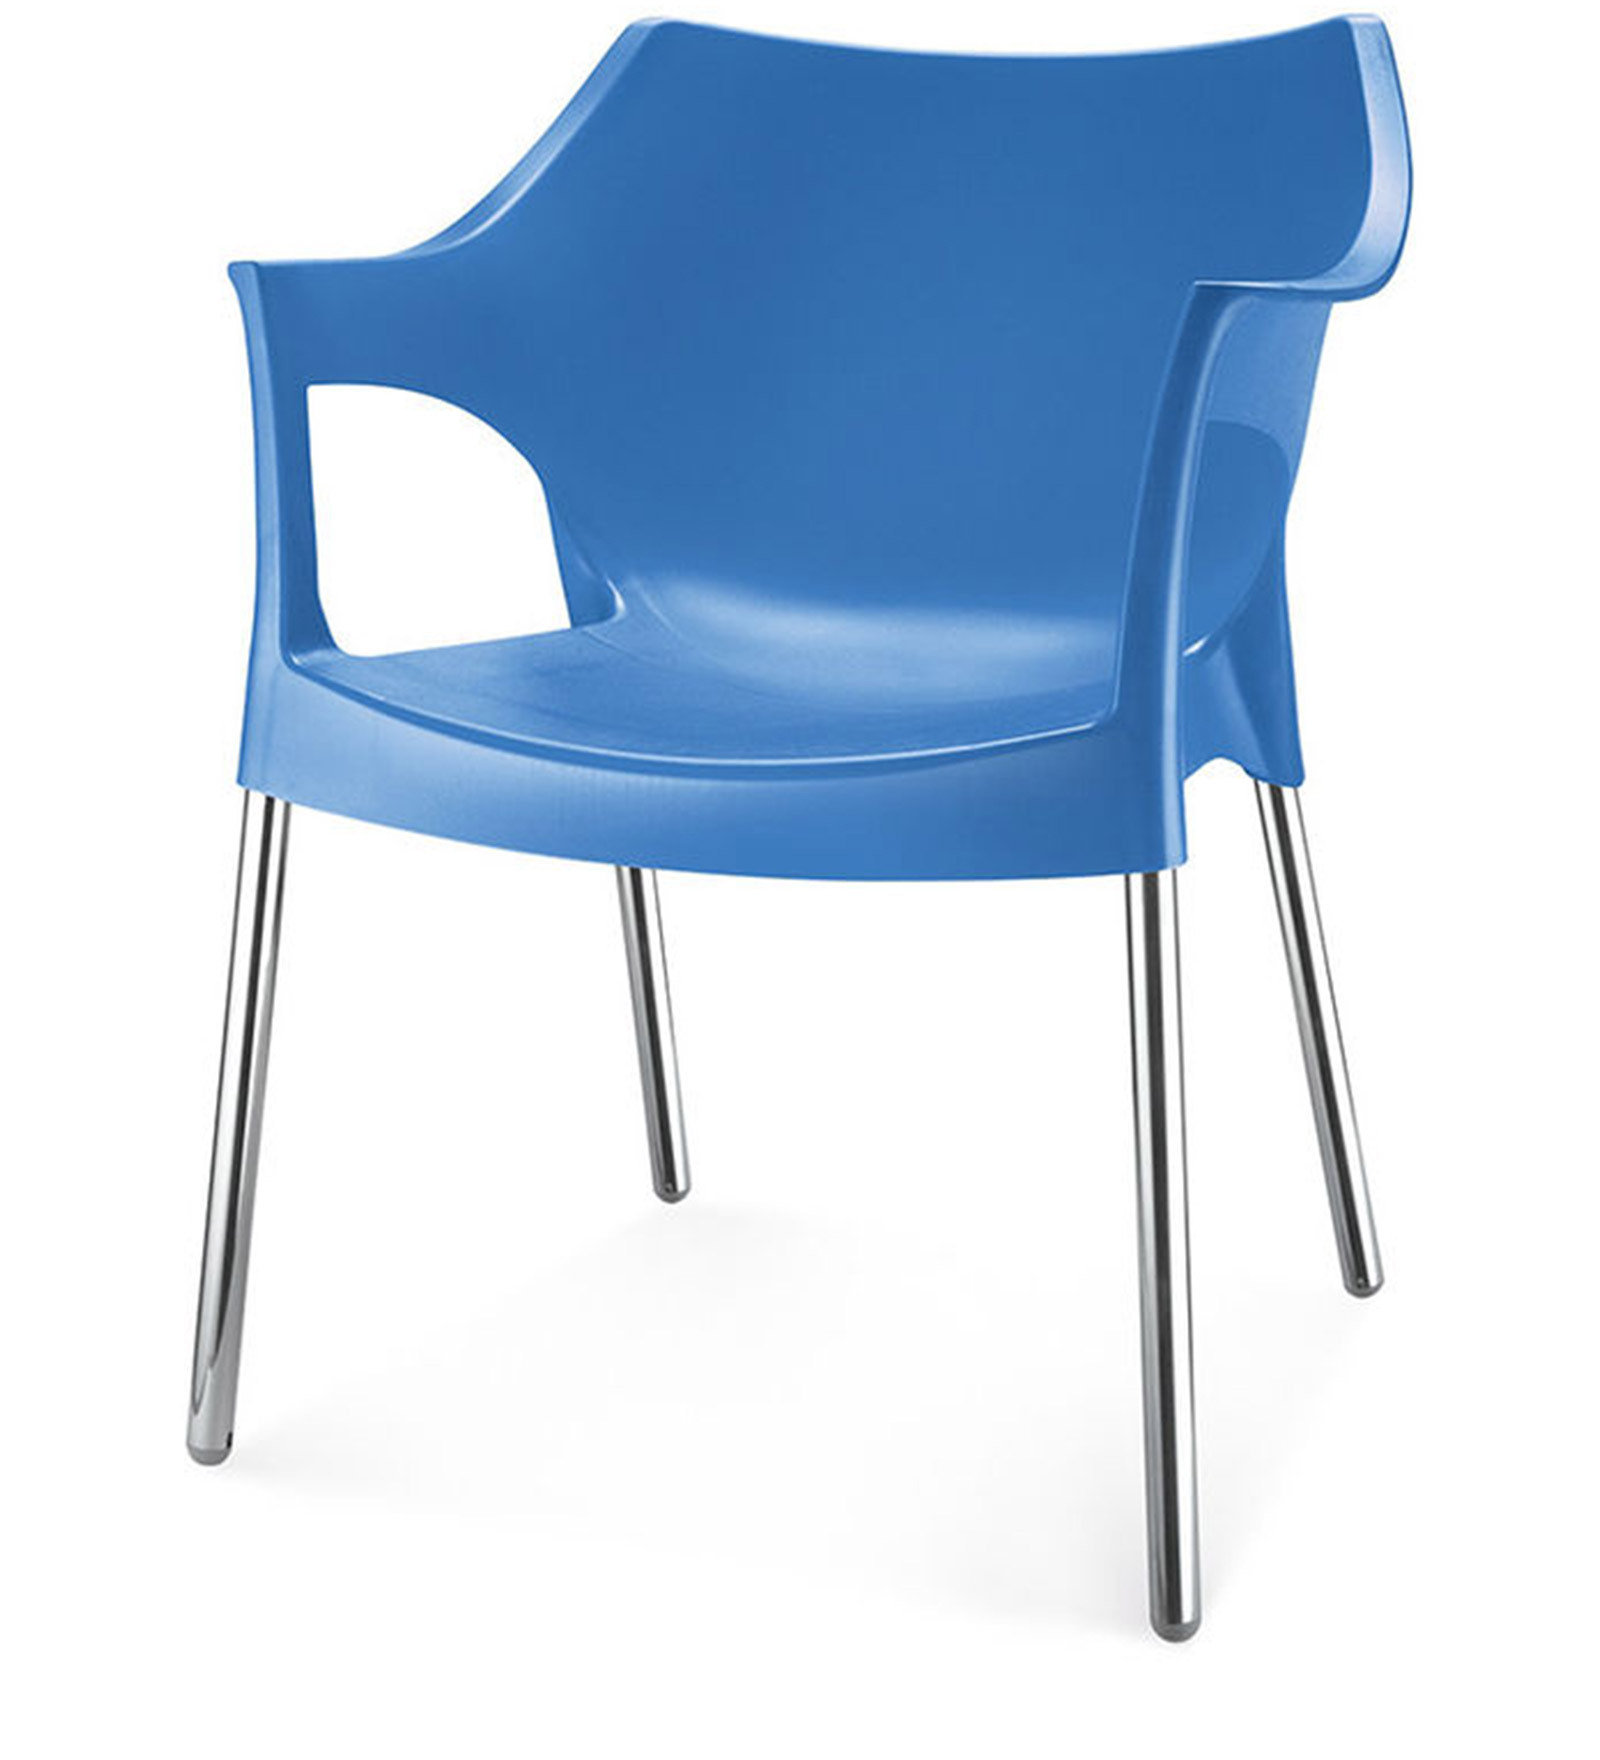Novella Series - 10 Set of 2 Chairs in Blue Colour by Nilkamal: (179, 12, 1421, 1640)
